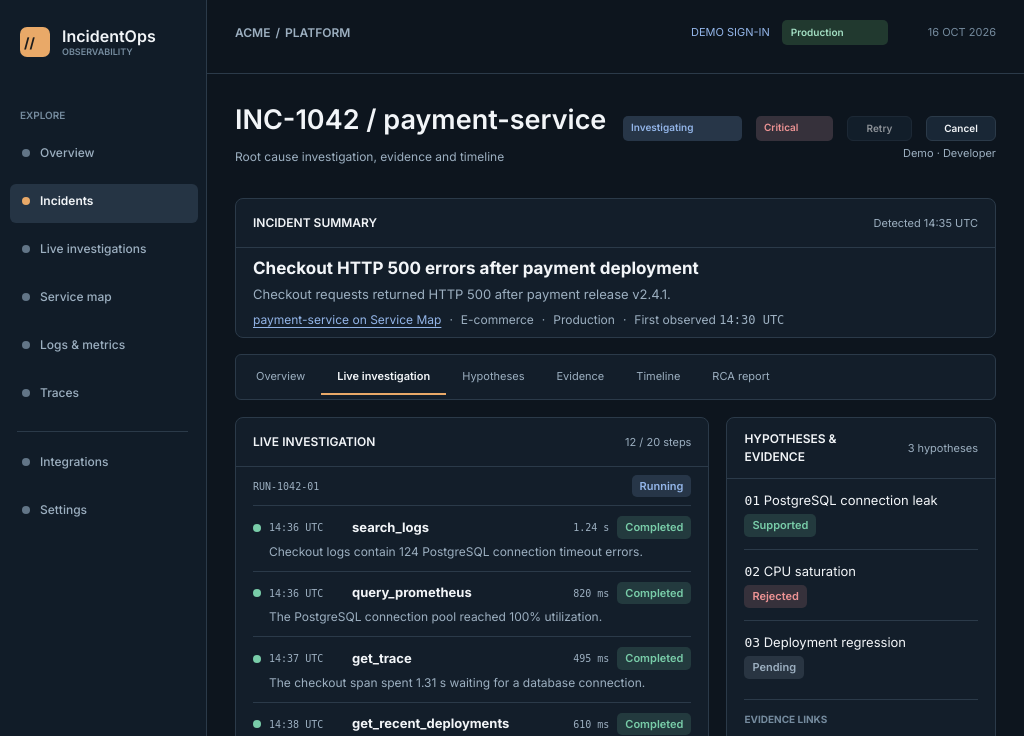
Test: Incident Detail › cancels an active demo run and exposes Retry afterwards
Click the button "Cancel".
click(961, 128)  # box [926,116,996,141]
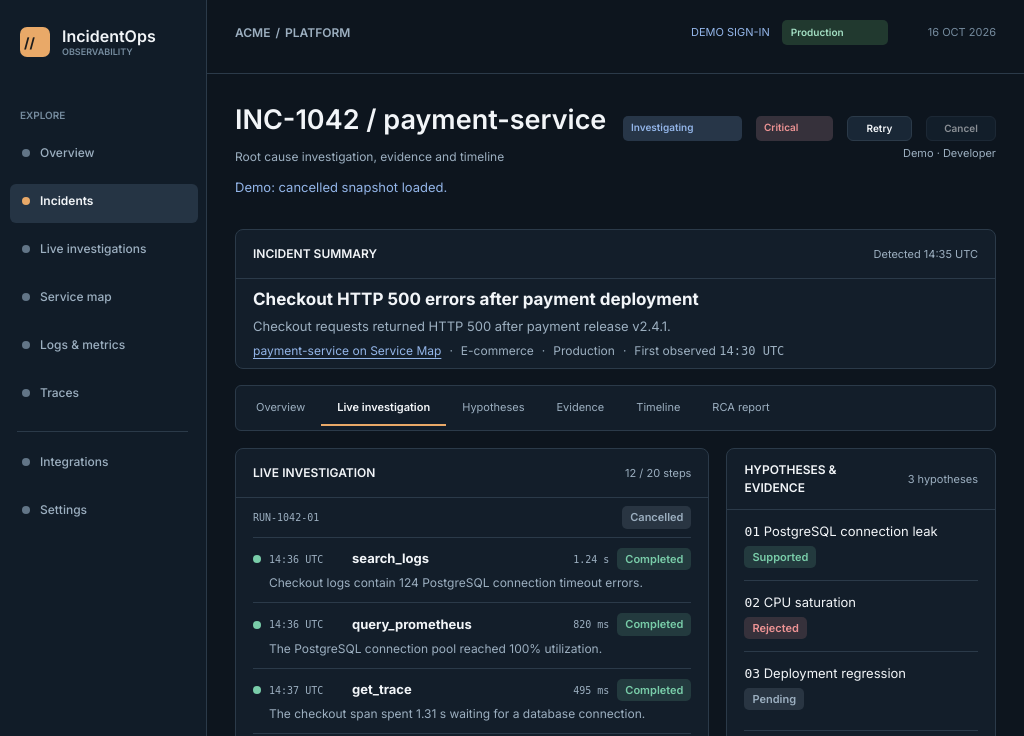
Expected: the button "Retry" is enabled, [847,116,912,141]
Expected: the button "Cancel" is disabled, [926,116,996,141]
